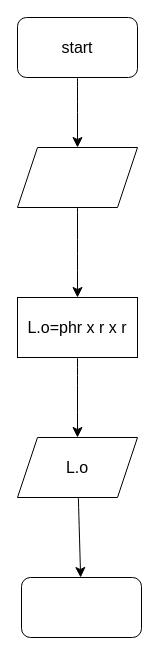
Some shapes in this 159 by 655 pixel diagram are drawn without their labels. Here are the shapes that lost their labels. From the top down, the box of each, then its label:
(16, 146, 138, 208): L.o phr=3,14 r
(20, 576, 142, 638): end
